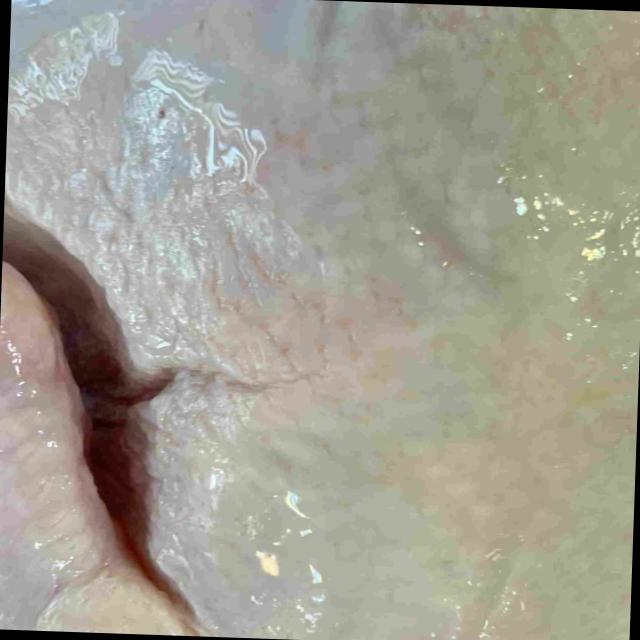back: (6, 0, 640, 640)
wing: (0, 260, 197, 636)
